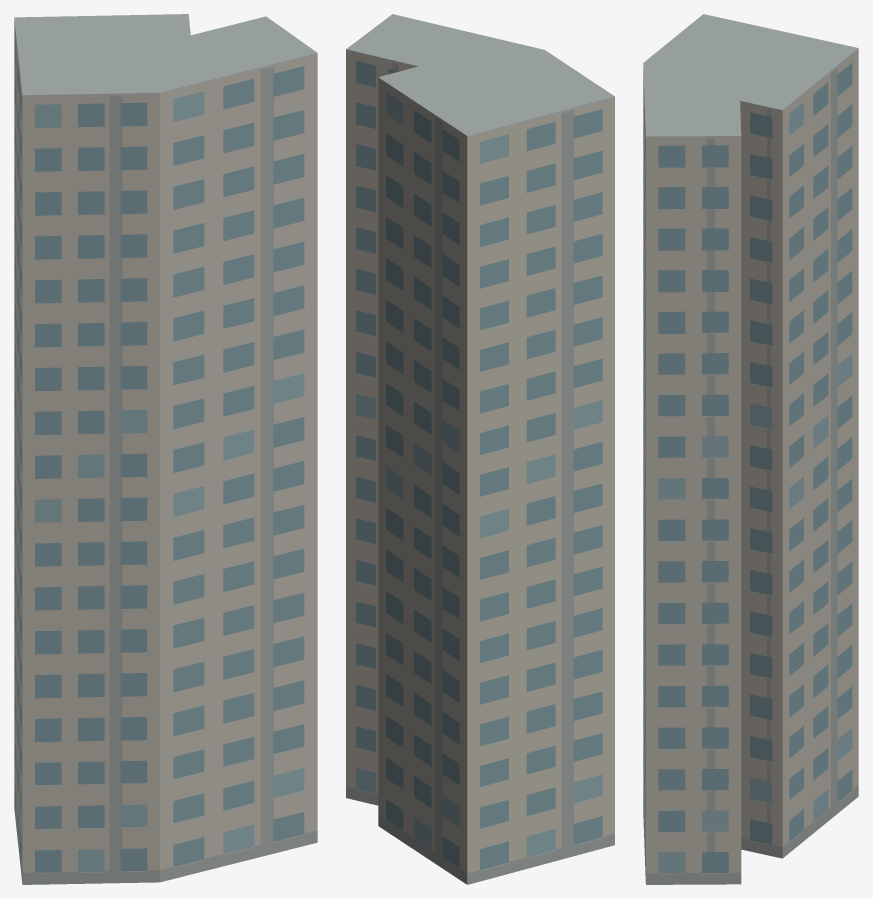
The model's file is residential-7be96044-0c9b-4f13-adfb-380820ada233.glb.
3 renders of one model, left to right at view 1: azimuth 30°, elevation 25°; view 2: azimuth 150°, elevation 25°; view 3: azimuth 270°, elevation 25°, orthographic. The views are drawn at different scales.
Parts seen in each view (by area): view 1: residential-7be96044-0c9b-4f13-adfb-380820ada233.tmp; view 2: residential-7be96044-0c9b-4f13-adfb-380820ada233.tmp; view 3: residential-7be96044-0c9b-4f13-adfb-380820ada233.tmp.
Part boxes in pixels (x1,y1,x2,y2): residential-7be96044-0c9b-4f13-adfb-380820ada233.tmp: (14,14,317,884); residential-7be96044-0c9b-4f13-adfb-380820ada233.tmp: (346,14,614,884); residential-7be96044-0c9b-4f13-adfb-380820ada233.tmp: (643,14,858,884).
Size of the model in its own units: 23.88 by 68 by 17.74.
